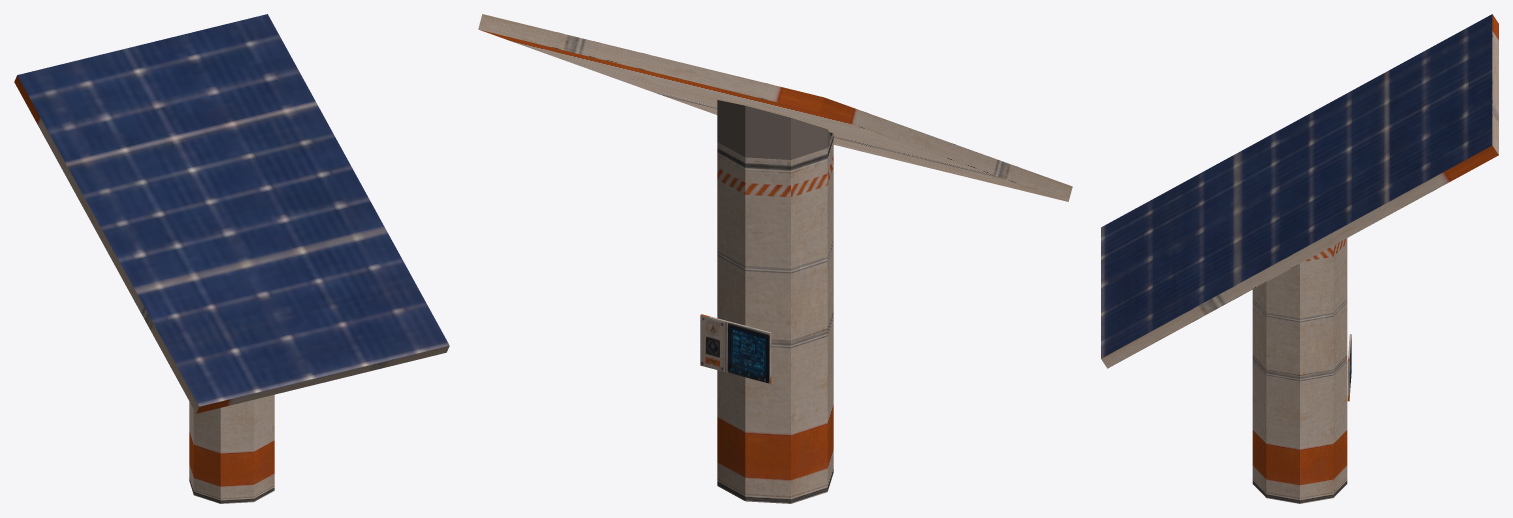
The model's file is solar_02.dae.
3 renders of one model, left to right at view 1: azimuth 30°, elevation 25°; view 2: azimuth 150°, elevation 25°; view 3: azimuth 270°, elevation 25°, orthographic. The views are drawn at different scales.
Visible parts, largest first — view 1: solar_02; view 2: solar_02; view 3: solar_02.
Boxes of the visible parts, bbox=[...] form: solar_02: bbox=[14, 14, 449, 503]; solar_02: bbox=[478, 14, 1072, 503]; solar_02: bbox=[1101, 14, 1498, 503].
Bounding box in the file's own units: 7.4 × 9.47 × 10.61.
